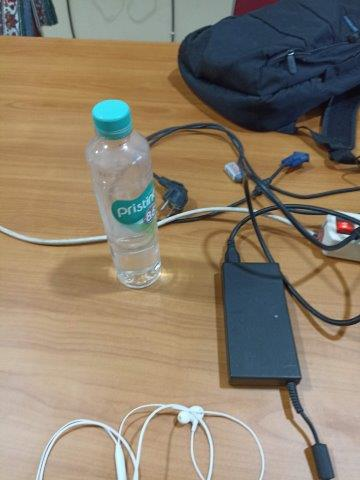botolplastik: (86, 99, 161, 289)
